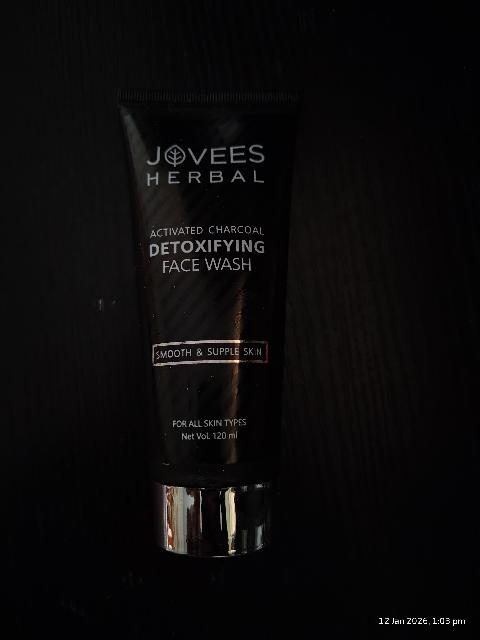jovees herbal: (109, 91, 302, 567)
